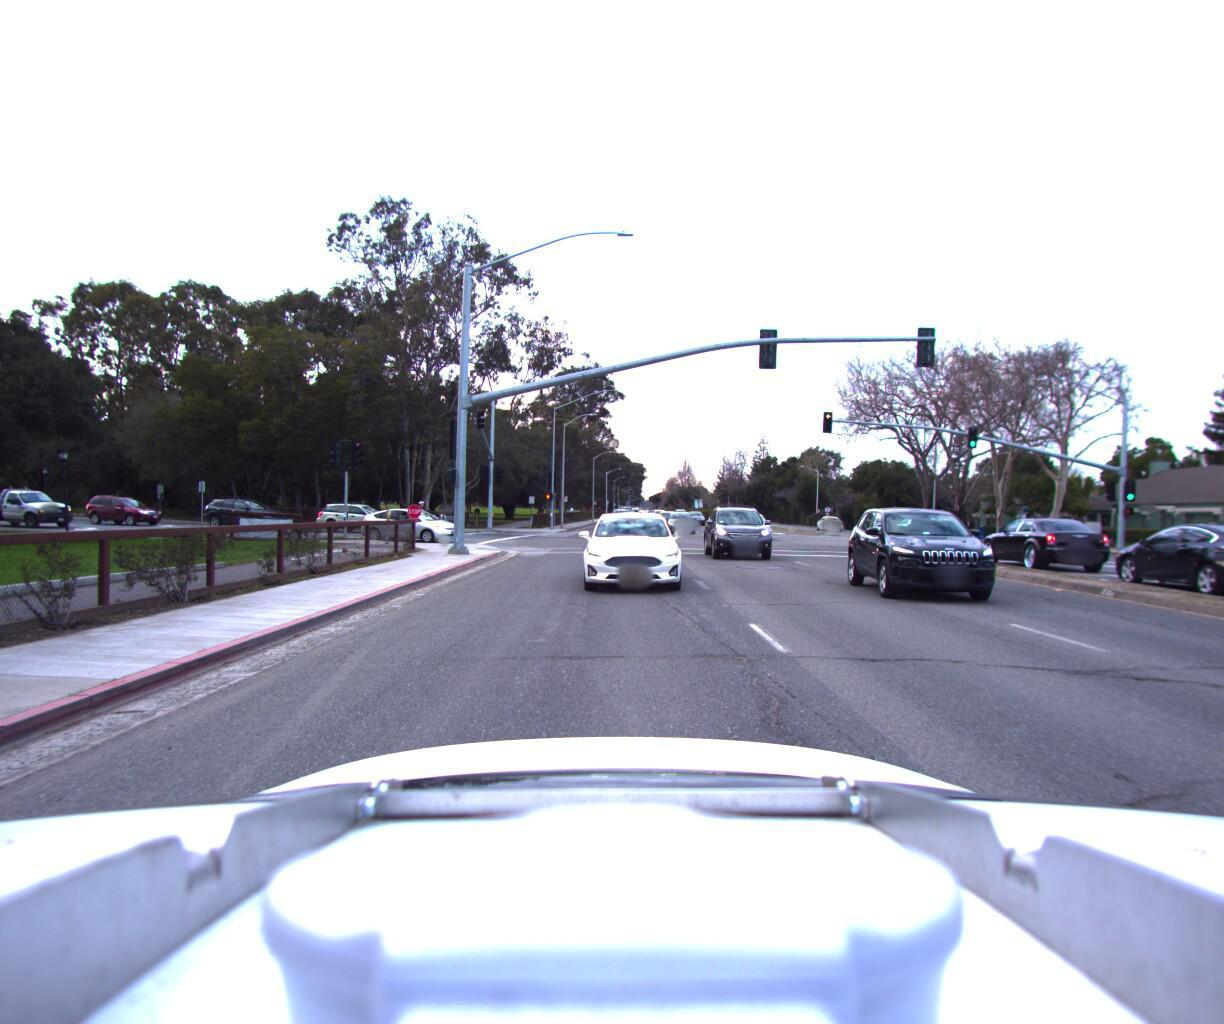car: (853, 485, 1041, 613), (579, 504, 692, 599), (1107, 517, 1224, 601), (975, 513, 1120, 571), (707, 500, 781, 564), (356, 505, 467, 541), (198, 493, 293, 529), (312, 497, 396, 530), (80, 494, 169, 525), (740, 509, 794, 539), (662, 513, 699, 538), (654, 510, 681, 530), (810, 513, 839, 529), (685, 506, 709, 522), (615, 499, 634, 514)
